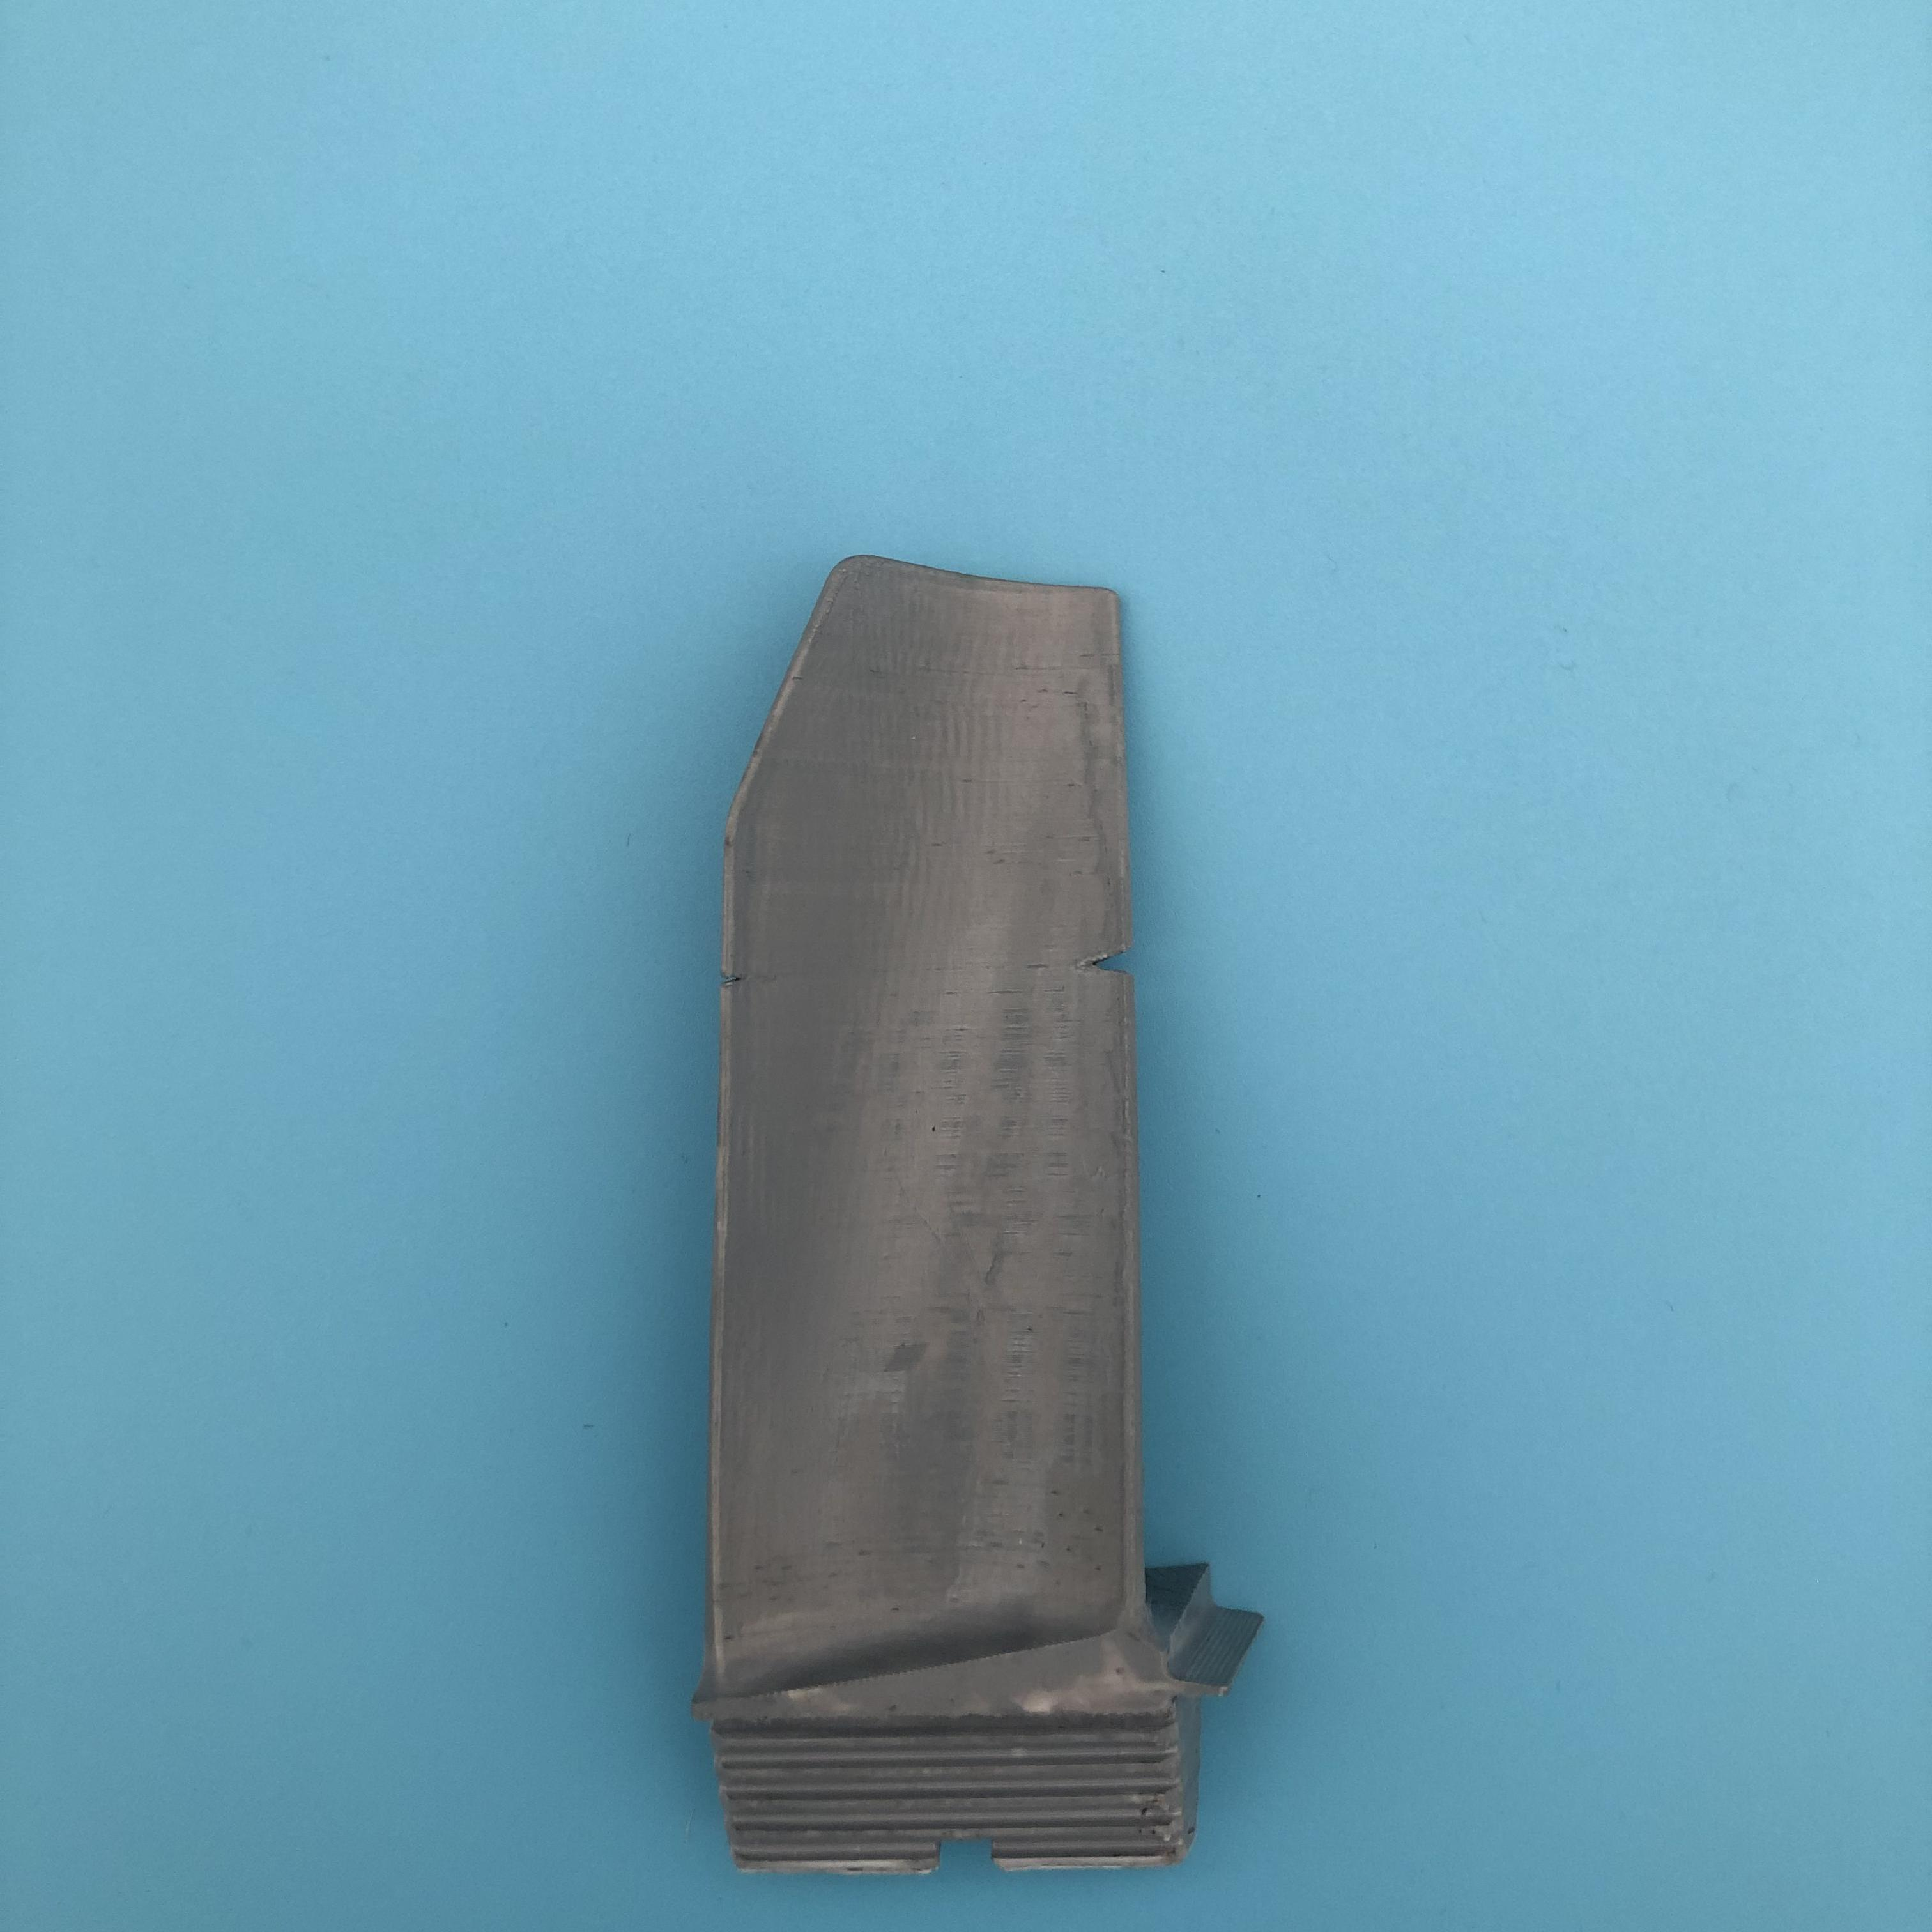groove: (1081, 929, 1139, 1010), (711, 957, 768, 1001)
